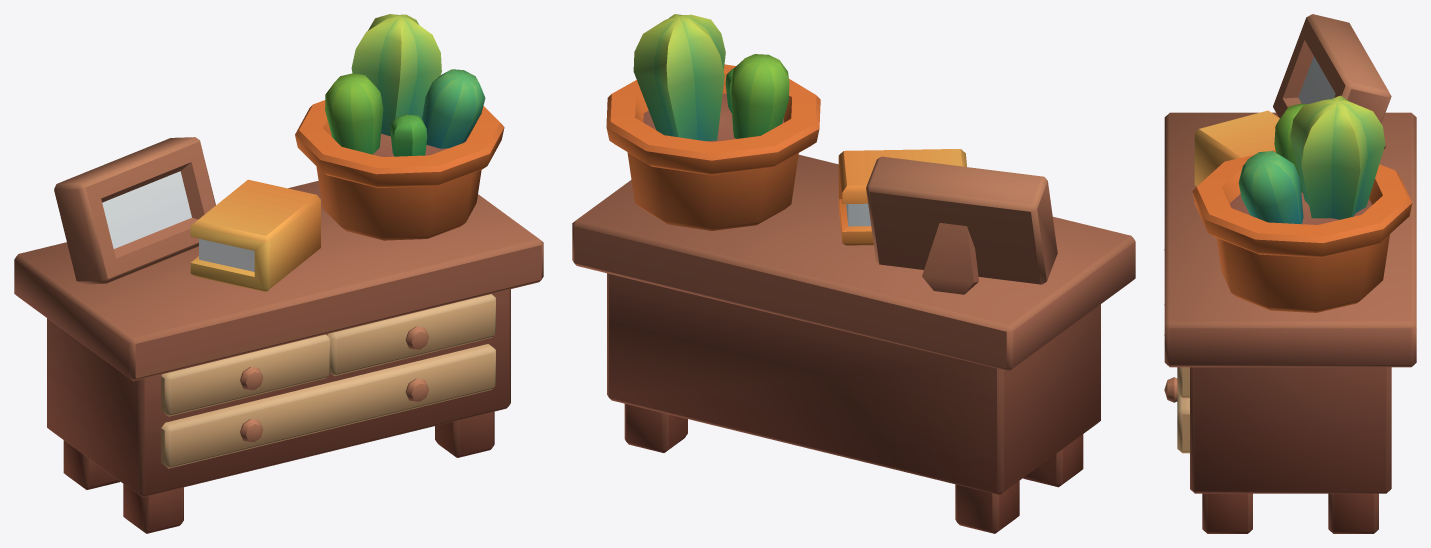
Rendered from cabinet-medium-decorated.glb.
3 renders of one model, left to right at view 1: azimuth 30°, elevation 25°; view 2: azimuth 150°, elevation 25°; view 3: azimuth 270°, elevation 25°, orthographic. The views are drawn at different scales.
Visible parts, largest first — view 1: cabinet_medium_decorated; view 2: cabinet_medium_decorated; view 3: cabinet_medium_decorated.
Boxes of the visible parts, x1,y1,x2,y2 form: cabinet_medium_decorated: (14,14,543,533); cabinet_medium_decorated: (572,14,1135,533); cabinet_medium_decorated: (1164,14,1416,533).
Bounding box in the file's own units: 2.04 × 1.83 × 1.
1 material, 1 textured.
